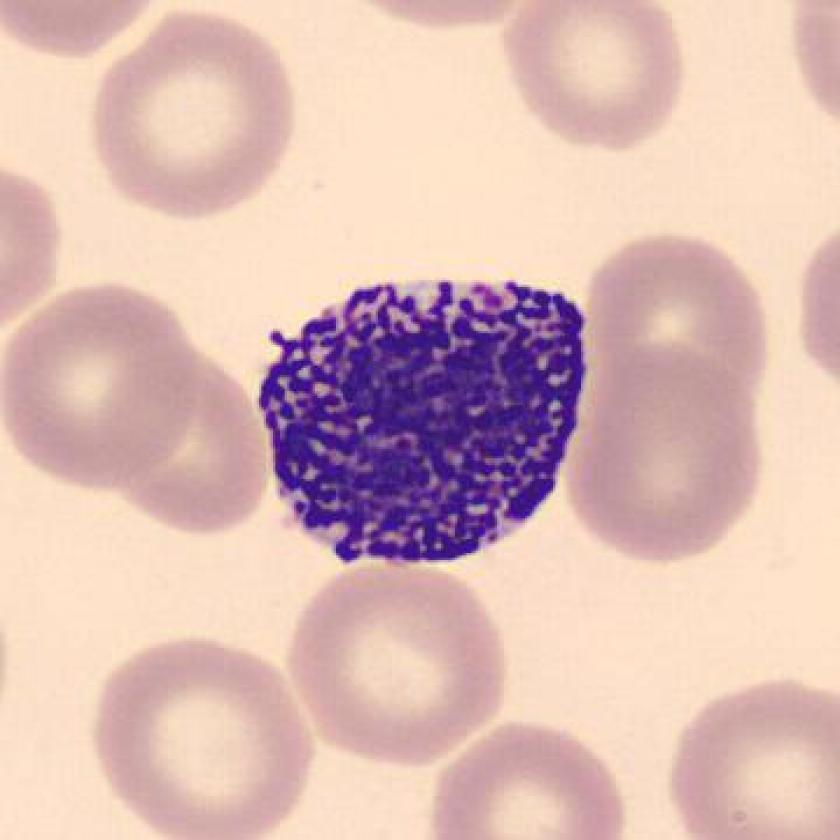basophil: (255, 272, 596, 580)
